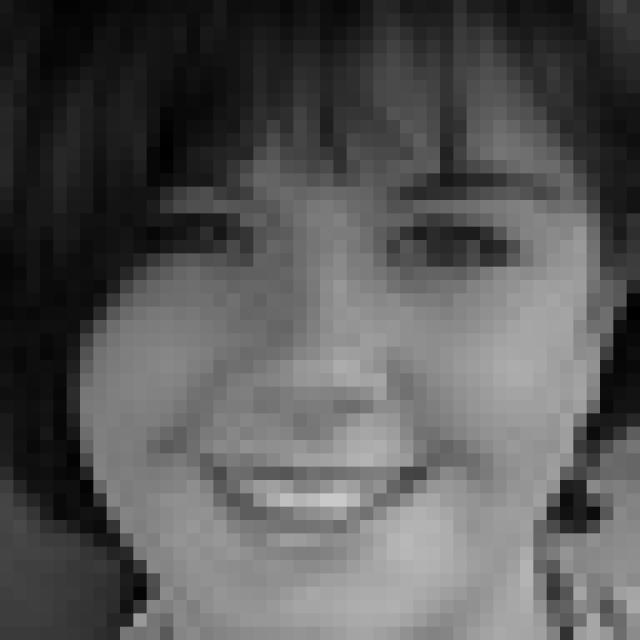happy: (128, 166, 558, 572)
